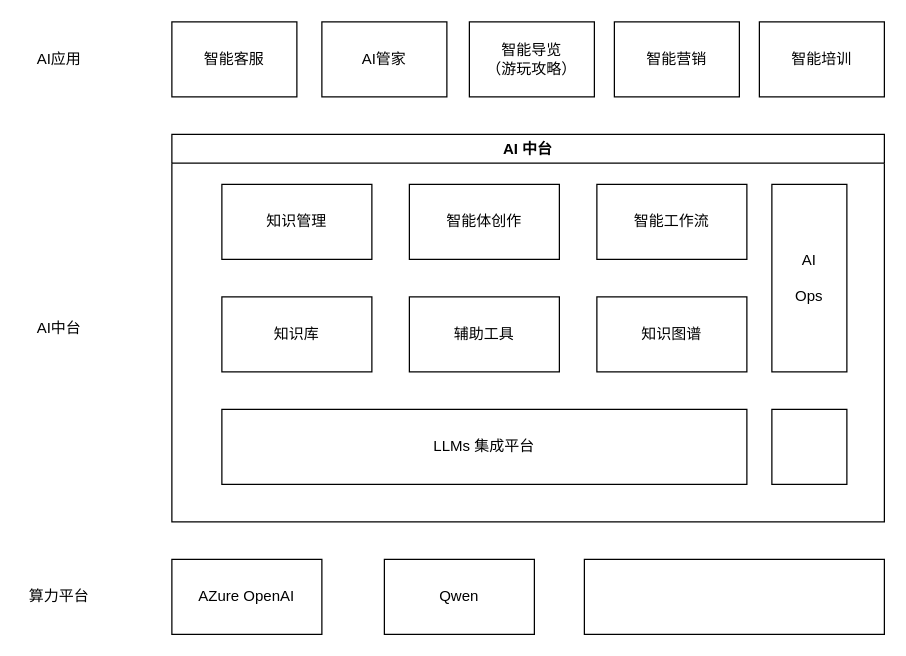
This 906x656 diagram has some shape labels left out. Each missing label, with the centre of its shape:
"3rd API" belongs at [809,446].
"本地大模型 （算力）" belongs at [733,596].
